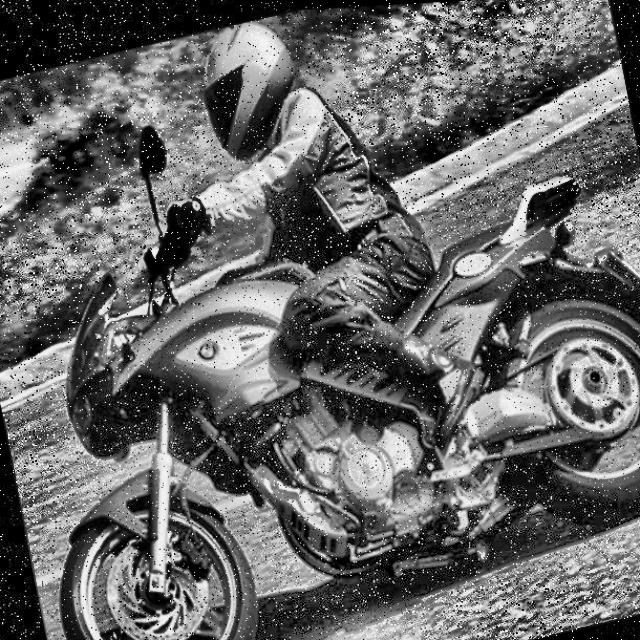Helmet: (190, 6, 316, 165)
